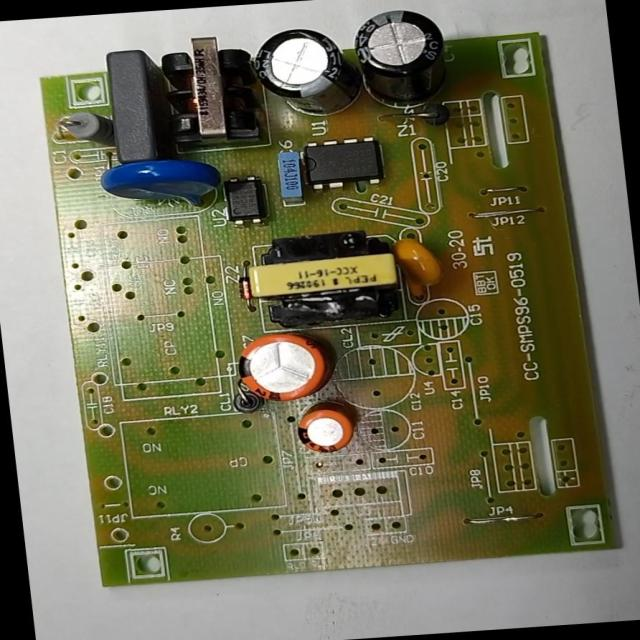Cap1: (228, 331, 334, 410)
Cap2: (290, 404, 360, 458)
Cap3: (246, 24, 362, 123)
Cap4: (345, 4, 454, 109)
MOSFET: (301, 134, 386, 192)
Mov: (97, 154, 222, 214)
Resistor: (56, 108, 115, 149)
Transformer: (239, 224, 407, 332), (153, 33, 262, 149)
